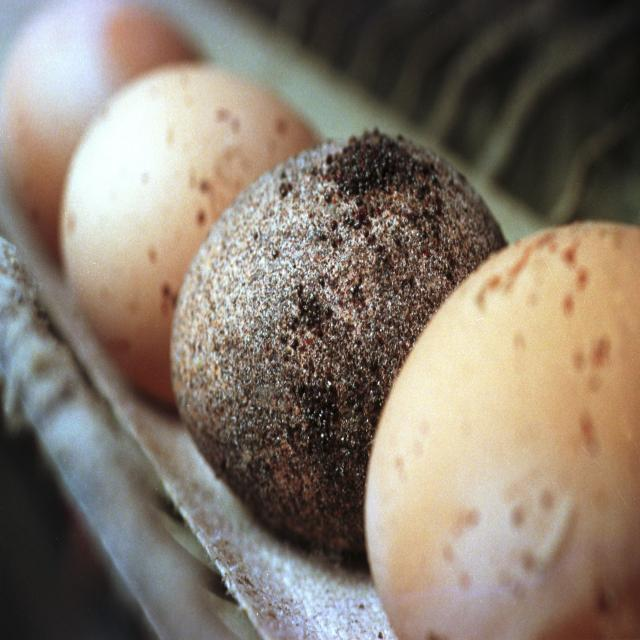Dirt Stained Egg: (354, 212, 639, 640), (54, 65, 322, 390)
